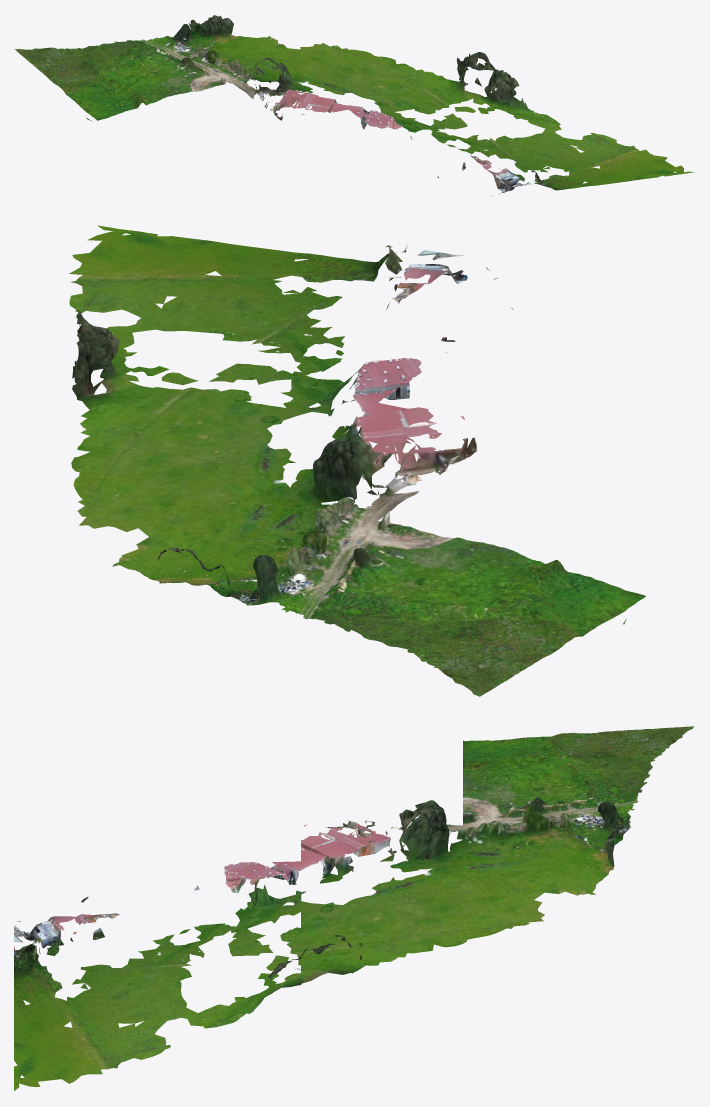
Rendered from bairro_13.glb.
The picture shows the model from 3 angles, top to bottom: view 1: azimuth 30°, elevation 25°; view 2: azimuth 150°, elevation 25°; view 3: azimuth 270°, elevation 25°; orthographic projection. The views are drawn at different scales.
Visible parts, largest first — view 1: bairro_13; view 2: bairro_13; view 3: bairro_13.
Part boxes in pixels (<box>): bairro_13: <box>15,15,694,195</box>; bairro_13: <box>69,225,645,696</box>; bairro_13: <box>14,726,693,1090</box>.
Bounding box in the file's own units: 146 × 22.92 × 142.
1 material, 1 textured.
